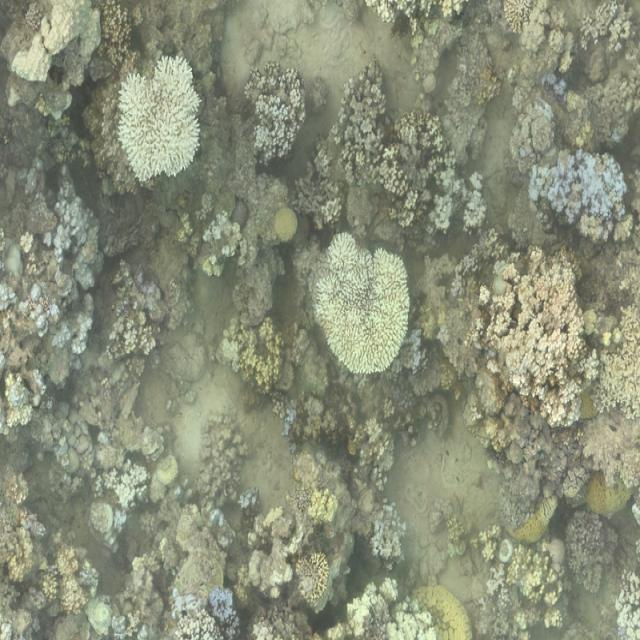Bleached Coral: (483, 240, 596, 431), (314, 245, 428, 384), (113, 38, 206, 184), (520, 150, 640, 228), (244, 62, 313, 166), (163, 565, 249, 629), (342, 588, 444, 640), (90, 451, 155, 525), (28, 294, 97, 357), (193, 208, 250, 270), (539, 65, 573, 102)
